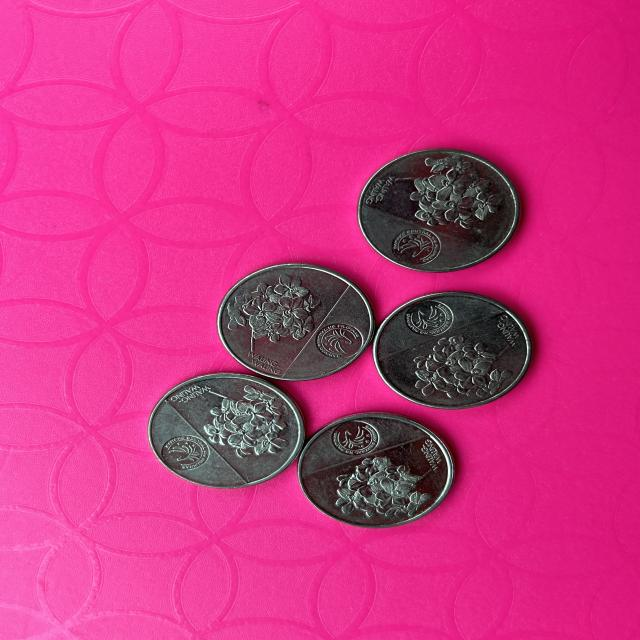1_New_Back: (378, 152, 502, 234), (182, 378, 296, 458), (407, 338, 506, 402), (228, 273, 318, 343), (338, 458, 418, 522)
